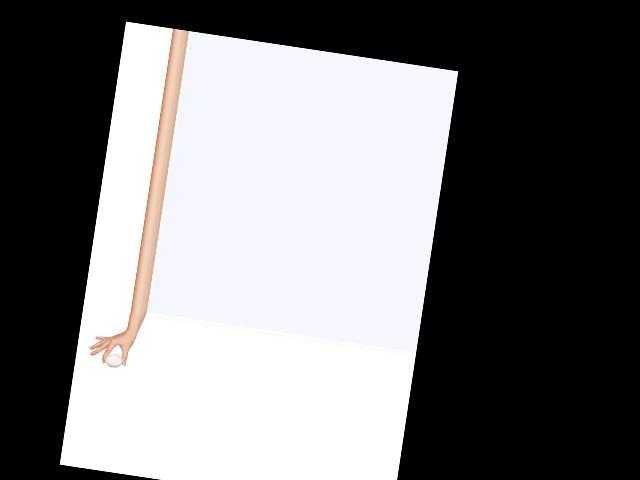egg: (104, 353, 123, 369)
